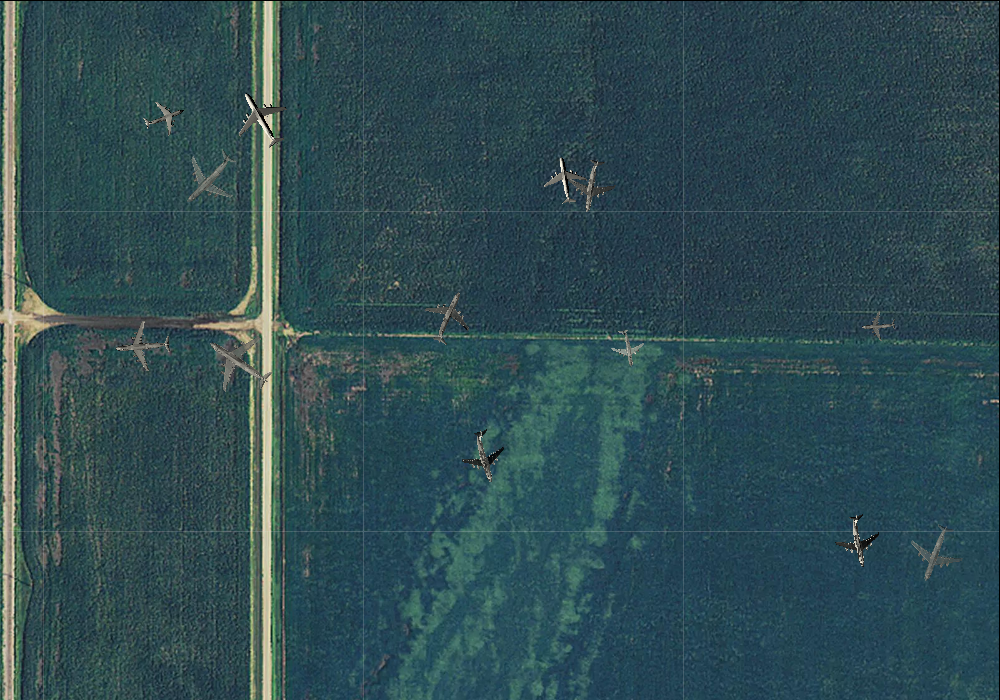plane: (192, 316, 285, 408), (164, 133, 252, 222), (221, 78, 301, 159), (900, 516, 972, 591), (413, 281, 484, 353), (453, 423, 517, 489), (829, 509, 889, 571), (562, 154, 621, 216), (112, 318, 172, 374), (137, 90, 190, 142), (540, 153, 590, 206), (606, 326, 648, 370), (861, 308, 896, 342)
